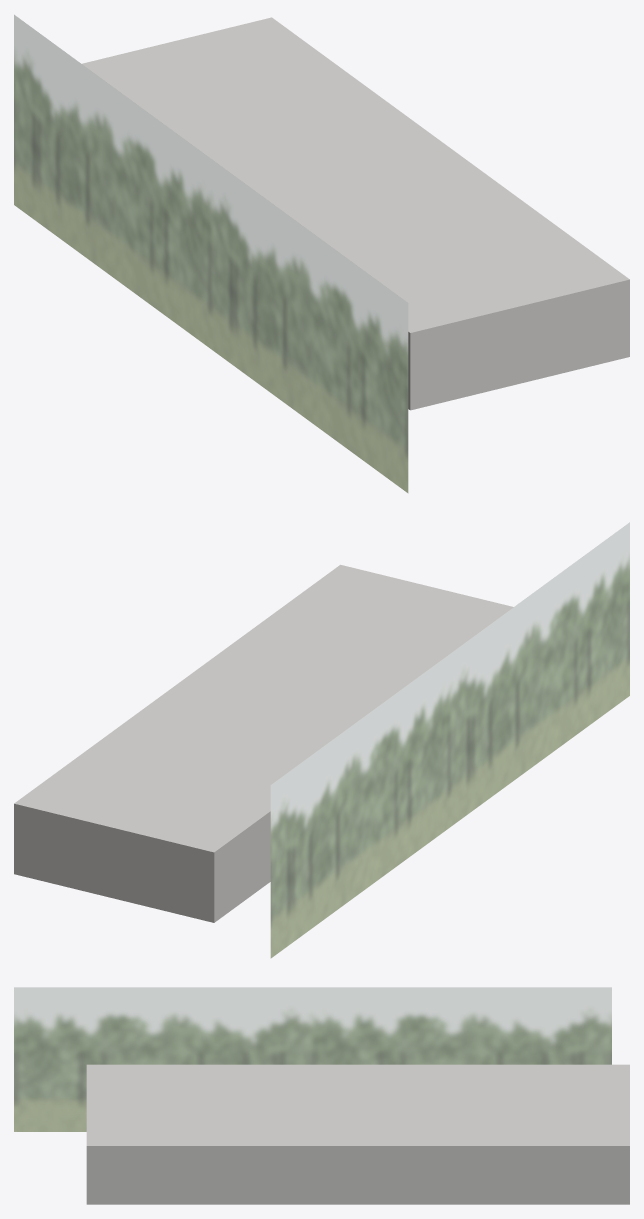
The model's file is T_nopannels_elegant_B.glb.
3 renders of one model, top to bottom at view 1: azimuth 30°, elevation 25°; view 2: azimuth 150°, elevation 25°; view 3: azimuth 270°, elevation 25°, orthographic. The views are drawn at different scales.
Visible parts, largest first — view 1: Hall, T_daylight_glow; view 2: Hall, T_daylight_glow, Hall_window; view 3: Hall, T_daylight_glow.
Boxes of the visible parts, <box> form: Hall: <box>82,17,629,410</box>; T_daylight_glow: <box>14,14,408,493</box>; Hall: <box>14,564,513,922</box>; T_daylight_glow: <box>270,522,629,958</box>; Hall_window: <box>214,811,270,922</box>; Hall: <box>86,1064,629,1204</box>; T_daylight_glow: <box>14,987,611,1131</box>.
Bounding box in the file's own units: 23.7 × 16 × 61.8.
8 materials, 2 textured.
